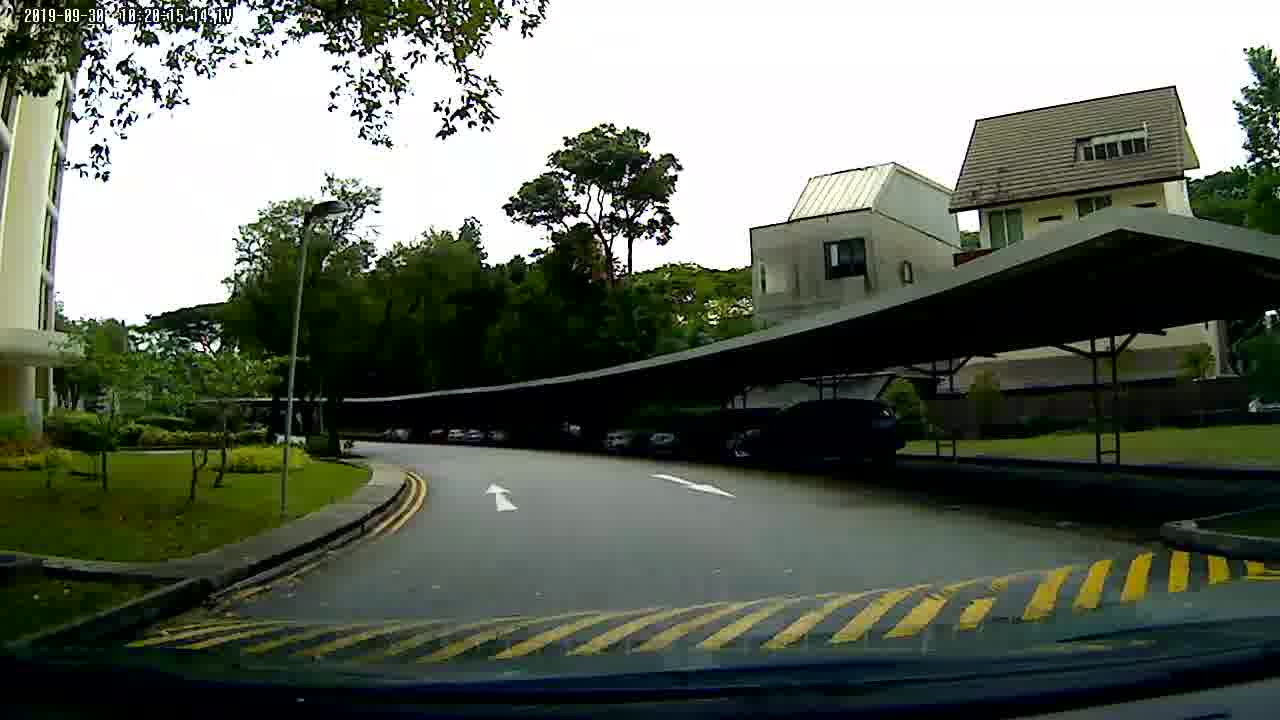car: (721, 399, 913, 479)
